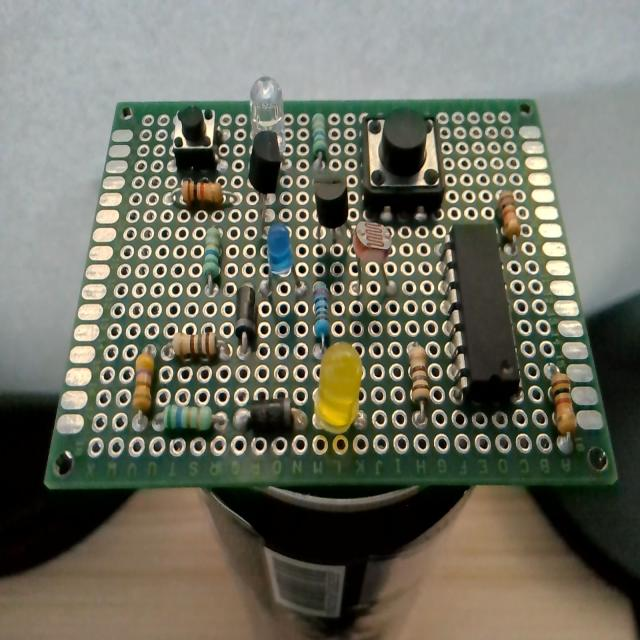IC: (447, 224, 520, 406)
cds: (350, 219, 399, 296)
diode: (230, 397, 307, 436), (232, 276, 259, 359)
led: (314, 342, 366, 451), (249, 76, 286, 150), (262, 220, 301, 287)
resistor: (407, 345, 432, 426), (131, 350, 155, 426), (311, 279, 332, 359), (552, 371, 577, 438), (202, 221, 222, 298), (308, 106, 330, 170), (172, 332, 221, 360), (163, 404, 211, 431), (182, 179, 224, 207), (499, 190, 521, 241)
switch: (362, 110, 444, 216), (173, 105, 219, 170)
transistor: (247, 132, 283, 244), (312, 168, 349, 259)
